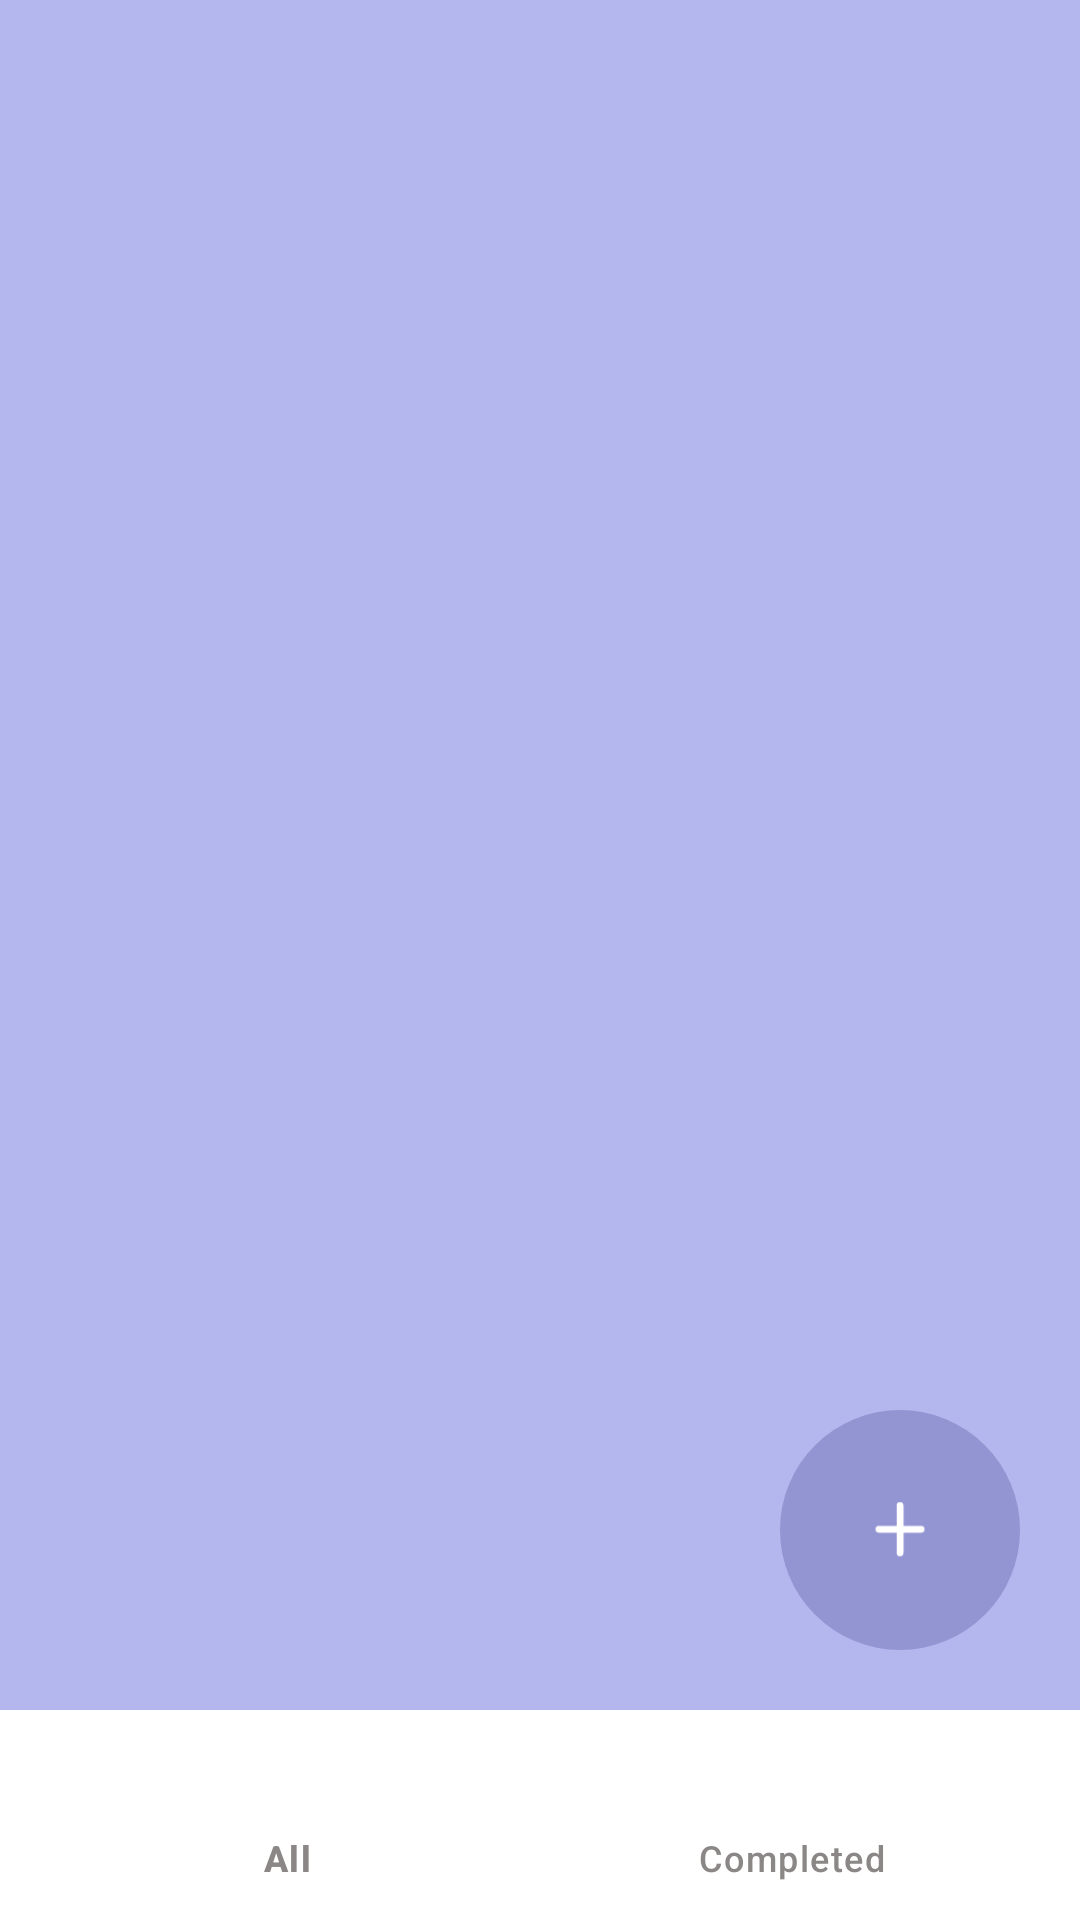

Screen size 1080×1920. Icon name, then its center in pixels as point (x, y):
floating: point (900, 1530)
